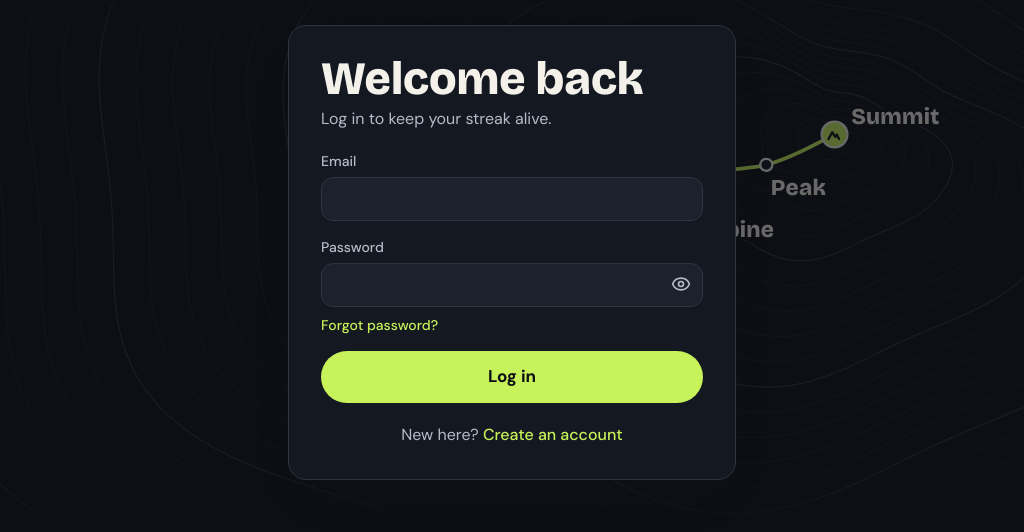
AuthPage: log in face › shows one message above the form for bad credentials and stays on the face
This screenshot has width=1024, height=532.
Type "ada@example.com" into the field labelled "Email".
click(512, 198); type("ada@example.com")  # box [321, 176, 703, 220]
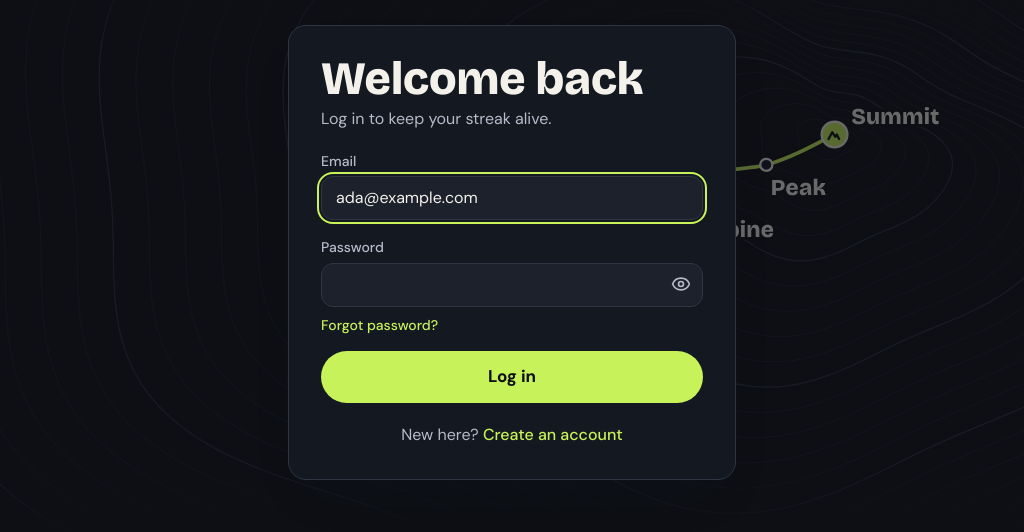
Type "secret" into the password field labelled "Password".
click(512, 284); type("secret")  # box [321, 262, 703, 306]
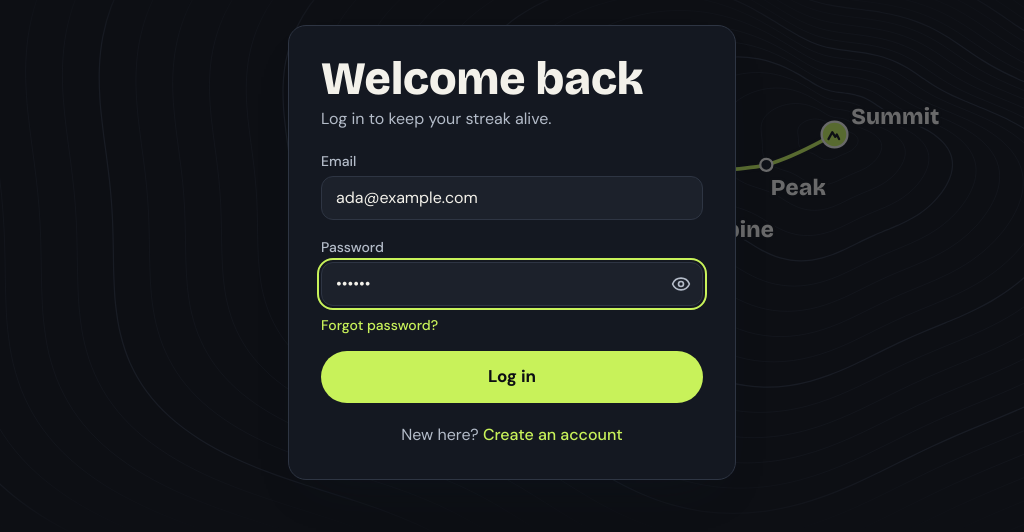
Click the button "Log in" below "Log in to keep your streak alive.".
click(512, 376)  # box [321, 350, 703, 402]
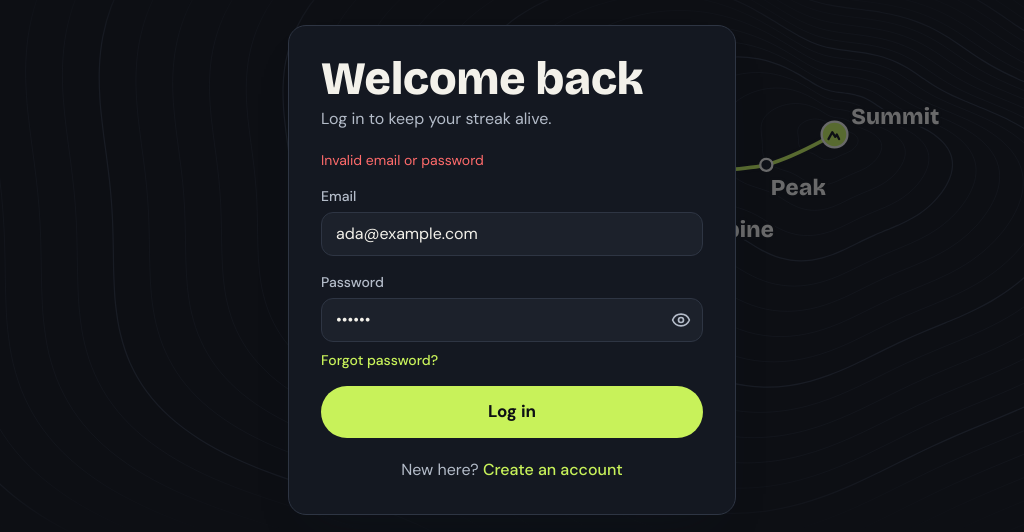
Now the message reads "Invalid email or password", box [321, 151, 484, 169]
